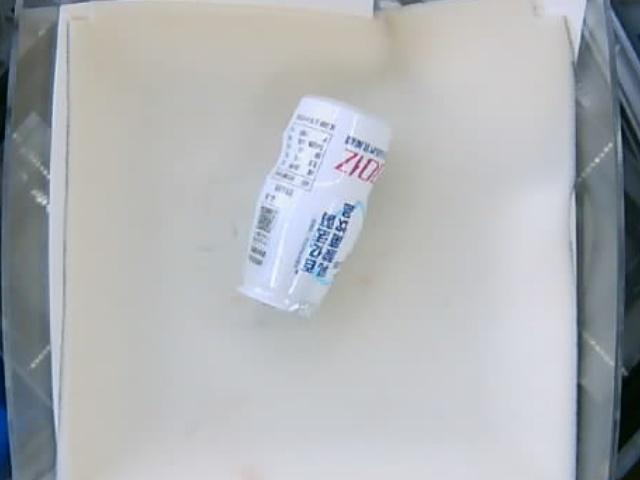Bottle: (236, 91, 392, 318)
